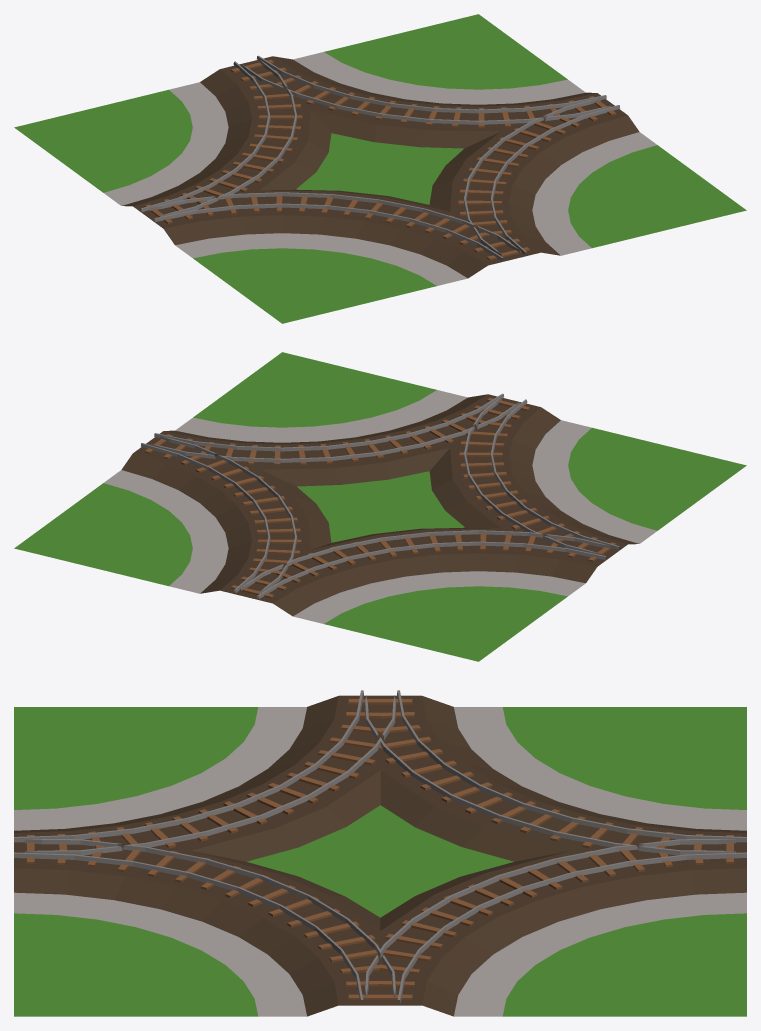
File: tiles-nb_tile-rail-intersection-nb.fbx
3 views of the same model, one above another, from view 1: azimuth 30°, elevation 25°; view 2: azimuth 150°, elevation 25°; view 3: azimuth 270°, elevation 25° (orthographic). The views are drawn at different scales.
Visible parts, largest first — view 1: tiles_nb_tile_rail_intersection_nb; view 2: tiles_nb_tile_rail_intersection_nb; view 3: tiles_nb_tile_rail_intersection_nb.
Boxes of the visible parts, bbox=[...] form: tiles_nb_tile_rail_intersection_nb: bbox=[14, 14, 746, 323]; tiles_nb_tile_rail_intersection_nb: bbox=[14, 352, 746, 661]; tiles_nb_tile_rail_intersection_nb: bbox=[14, 690, 746, 1016].
Size of the model in its own units: 200 by 4.98 by 200.
